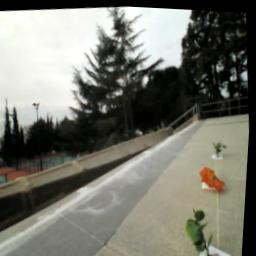herb: (185, 205, 218, 255), (214, 138, 230, 156)
wild: (200, 162, 230, 194)
